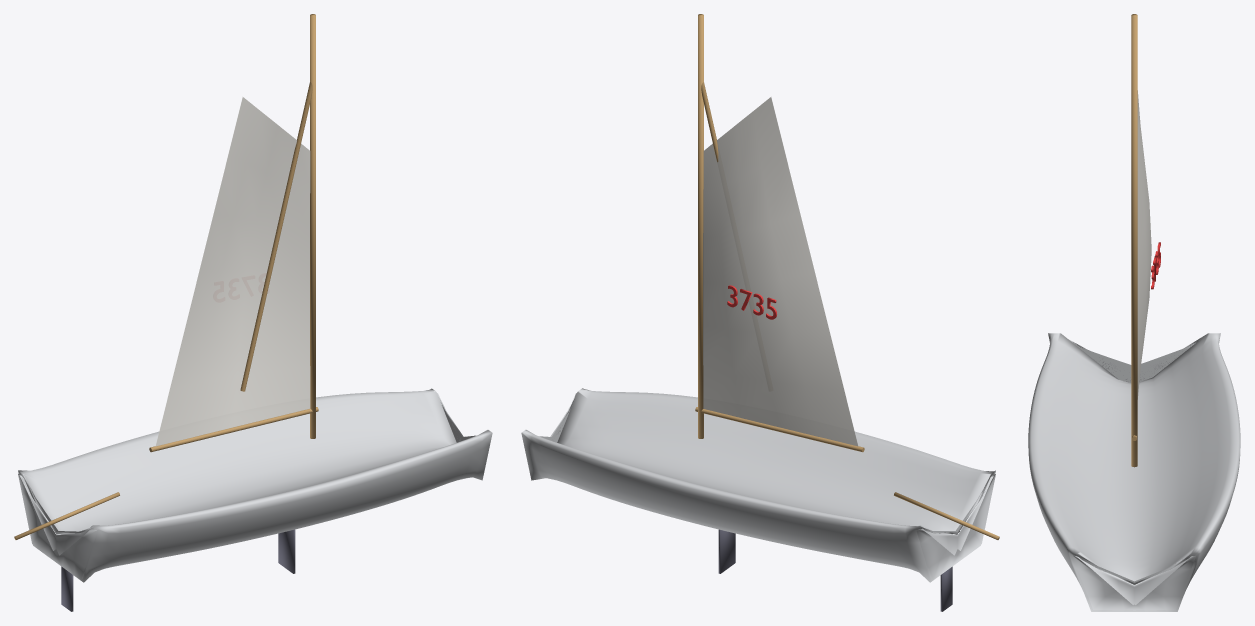
Rendered from Optimist3735.fbx.
The picture shows the model from 3 angles, left to right: view 1: azimuth 30°, elevation 25°; view 2: azimuth 150°, elevation 25°; view 3: azimuth 270°, elevation 25°; orthographic projection. The views are drawn at different scales.
Visible parts, largest first — view 1: OptimistHull, Sail, Mast, Sprit, Boom, Daggerboard; view 2: OptimistHull, Sail, Mast, Boom, Daggerboard; view 3: OptimistHull, Mast, Sail.
Part boxes in pixels (x1=…): OptimistHull: x1=18, y1=388, x2=492, y2=582; Sail: x1=156, y1=97, x2=310, y2=446; Mast: x1=310, y1=14, x2=315, y2=438; Sprit: x1=240, y1=82, x2=312, y2=391; Boom: x1=149, y1=407, x2=318, y2=452; Daggerboard: x1=278, y1=529, x2=295, y2=573; OptimistHull: x1=521, y1=388, x2=995, y2=582; Sail: x1=703, y1=97, x2=857, y2=446; Mast: x1=698, y1=14, x2=703, y2=438; Boom: x1=695, y1=407, x2=864, y2=452; Daggerboard: x1=718, y1=529, x2=735, y2=573; OptimistHull: x1=1028, y1=333, x2=1240, y2=611; Mast: x1=1131, y1=14, x2=1137, y2=467; Sail: x1=1137, y1=90, x2=1151, y2=399.
Bounding box in the file's own units: 2.56 × 0.9829 × 2.97.
